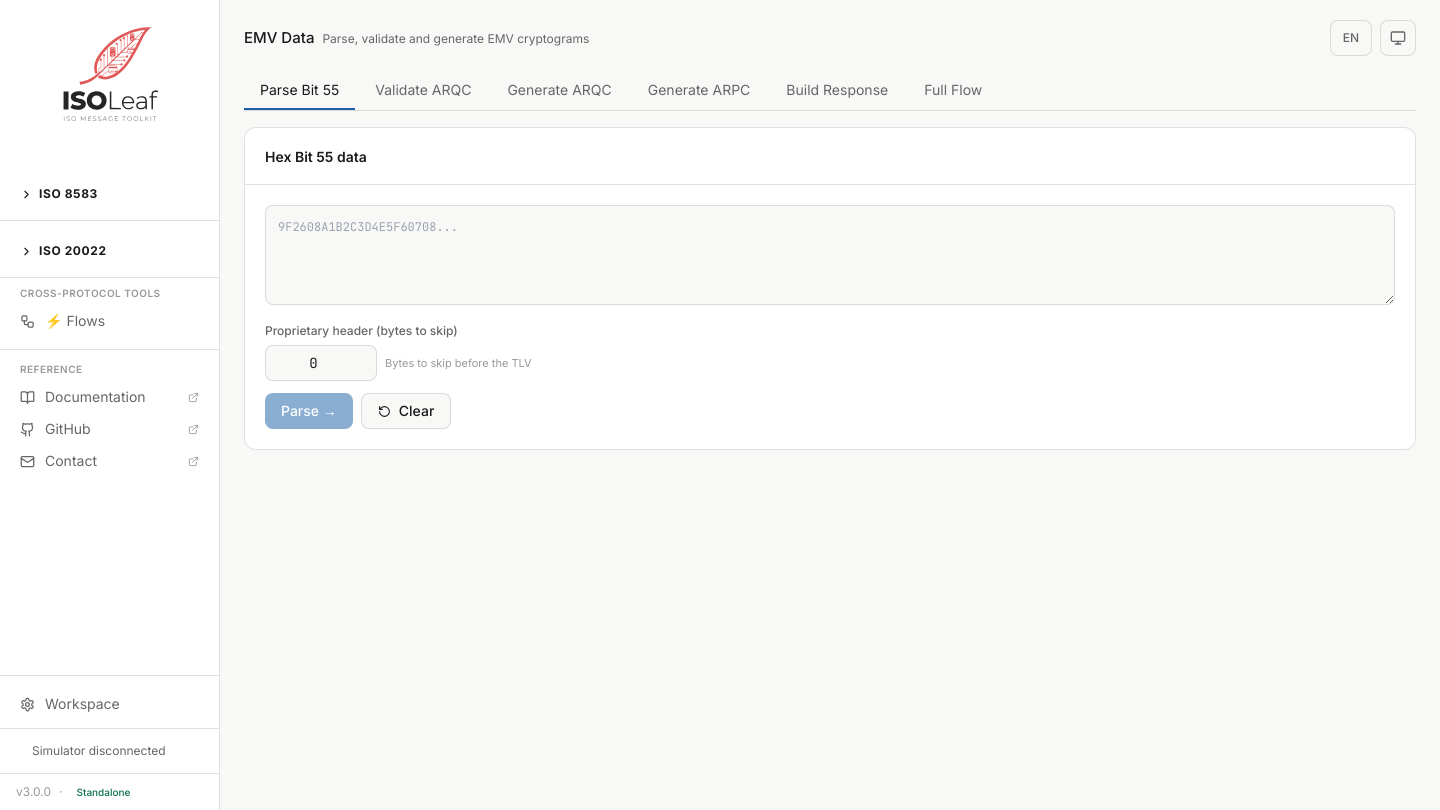
Scenario: EMV page › can navigate between Generate ARQC and Generate ARPC tabs
Click the tab "Generate ARQC": [560, 91] box [491,72,628,110]
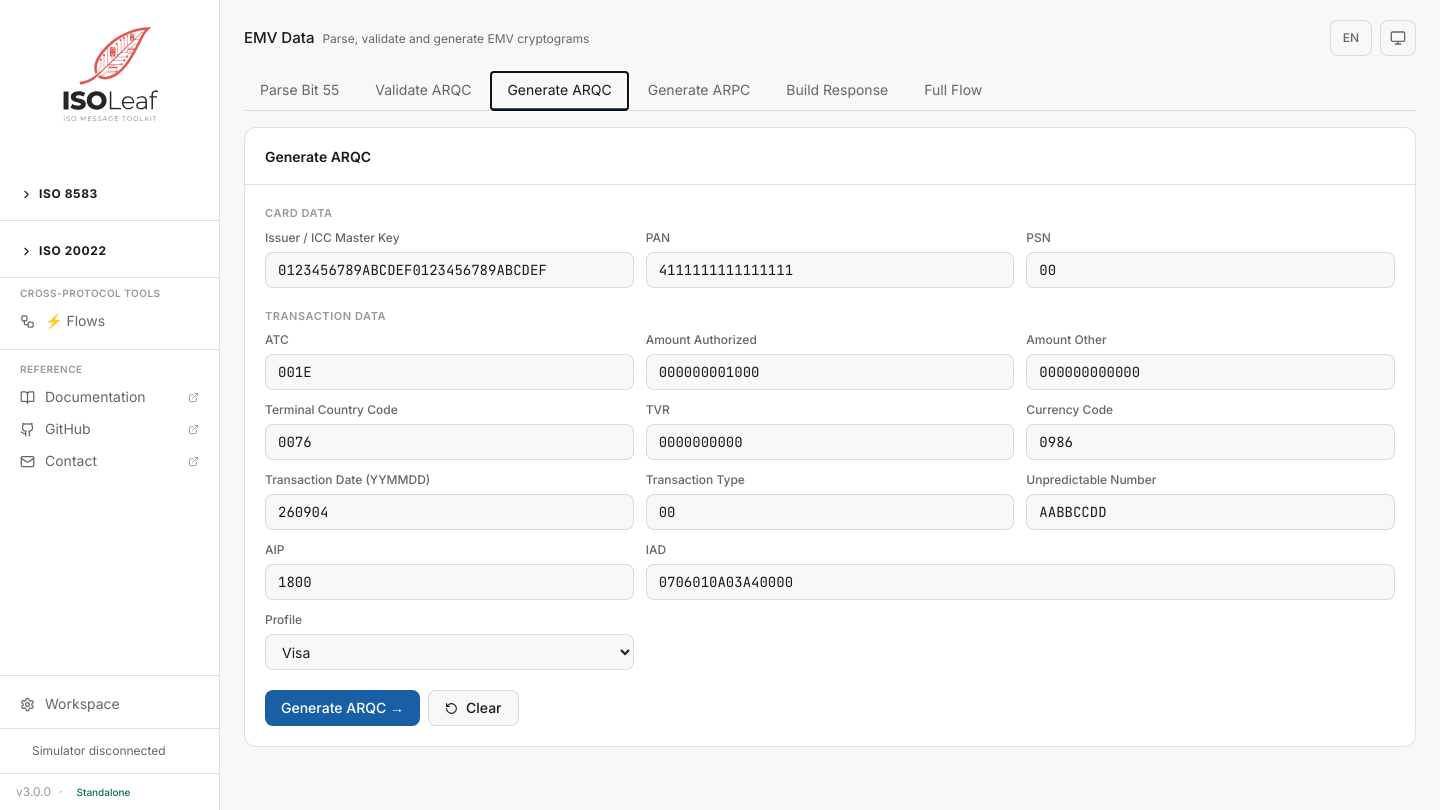
expect the text "Card Data" is shown: met, box [265,206,332,220]
Click the tab "Generate ARPC": [699, 91] box [632,72,766,110]
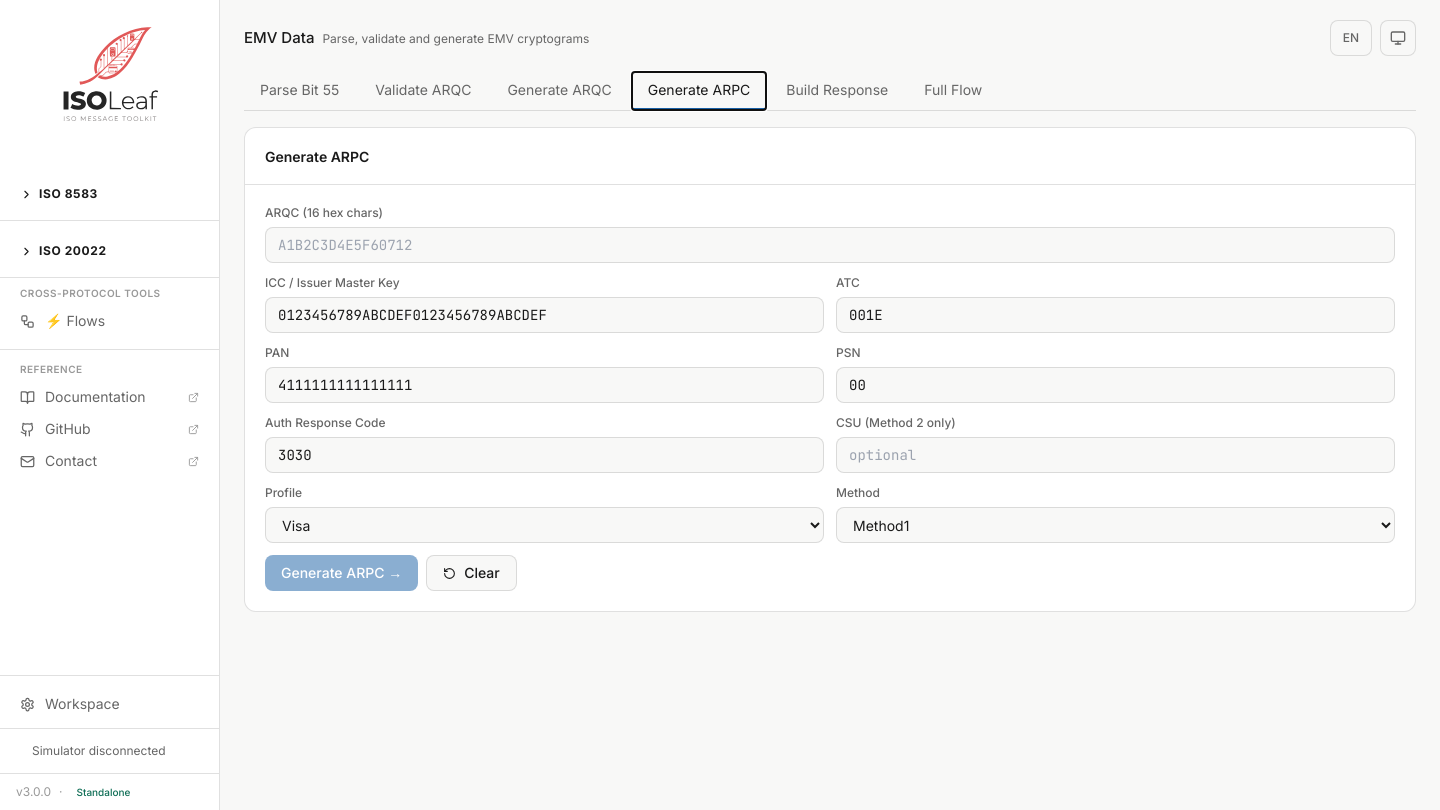
expect the text "ARQC (16 hex chars)" is shown: met, box [265,205,383,220]
